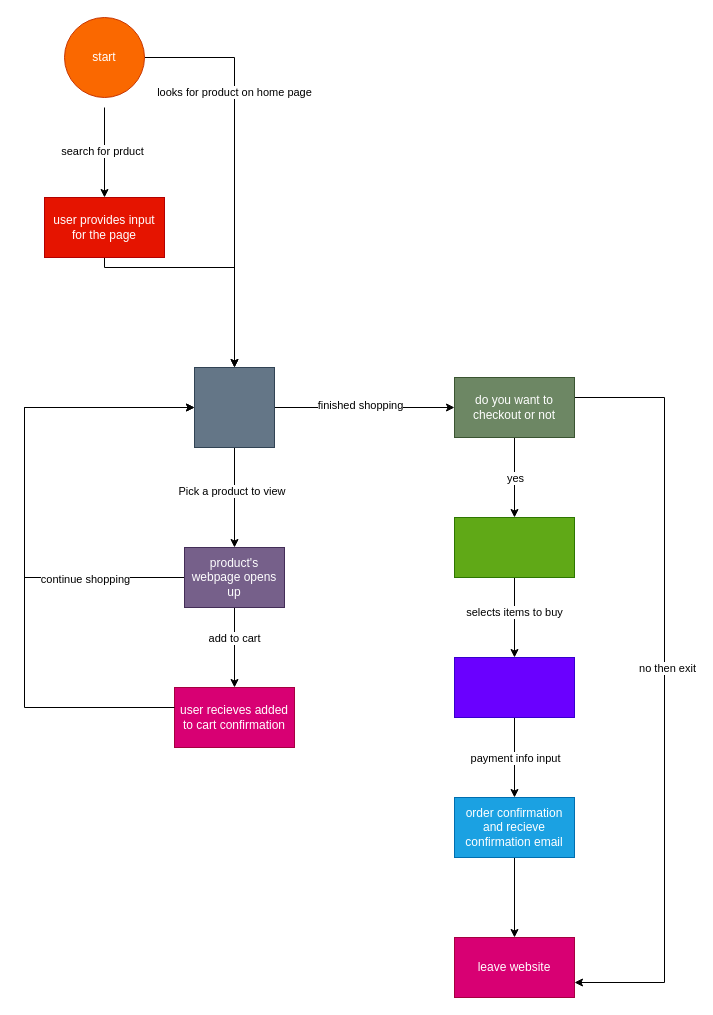
Image size: 713x1015. Some labels were removed from this diagram. The centre of each missing label's shape, as x and y in pixels:
"go to view cart" belongs at [514,547].
"looks for product on the page" belongs at [234,407].
"view payment screen" belongs at [514,687].
